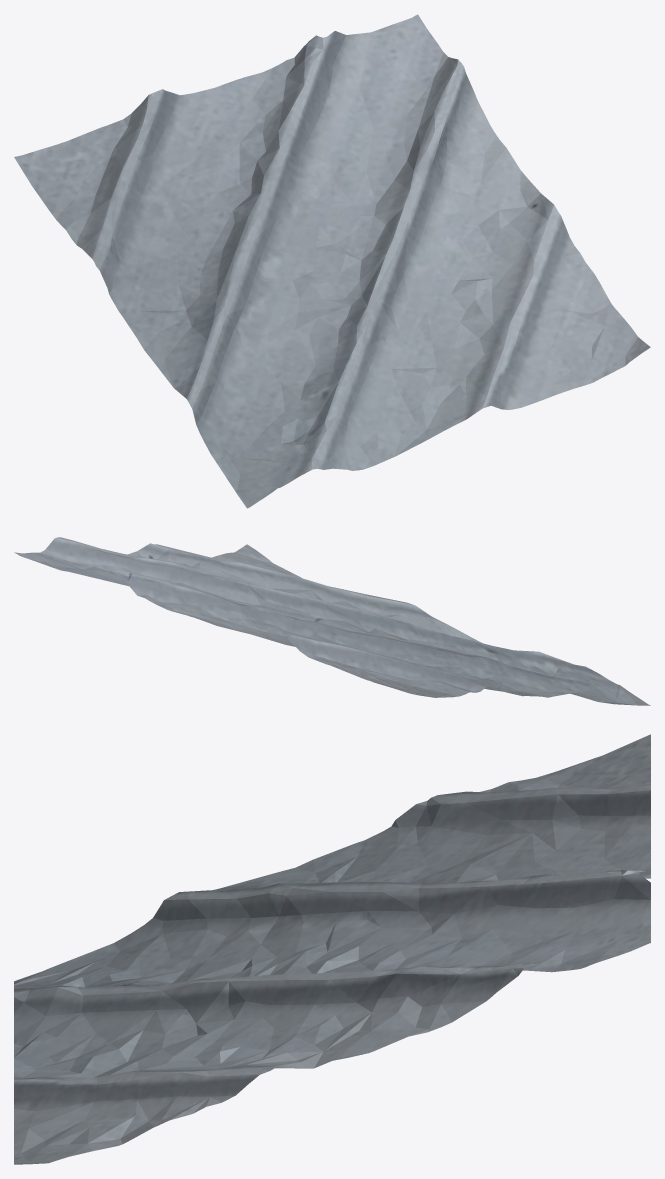
3 renders of one model, top to bottom at view 1: azimuth 30°, elevation 25°; view 2: azimuth 150°, elevation 25°; view 3: azimuth 270°, elevation 25°, orthographic. The views are drawn at different scales.
Size of the model in its own units: 0.8373 by 0.4535 by 0.8374.
3 materials, 3 textured.
